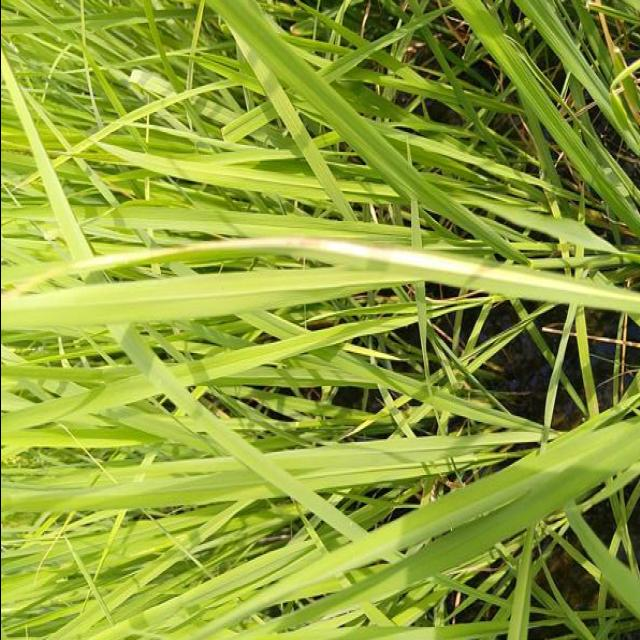Leaf Blight: (0, 240, 640, 315)
